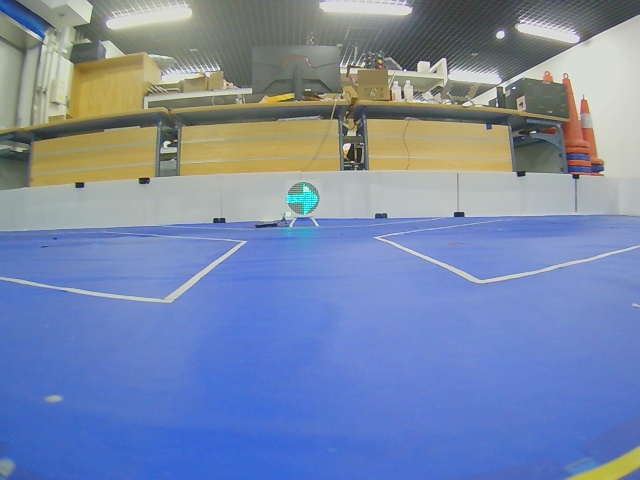right_green: (286, 182, 319, 215)
